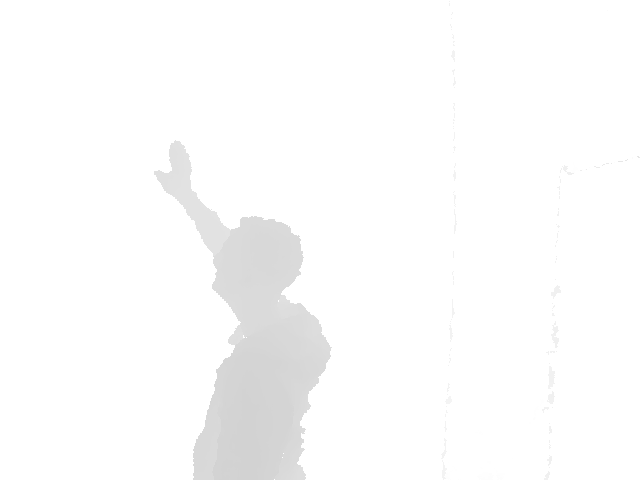hand: (153, 140, 194, 190)
head: (209, 215, 305, 298)
person: (152, 140, 333, 480)
